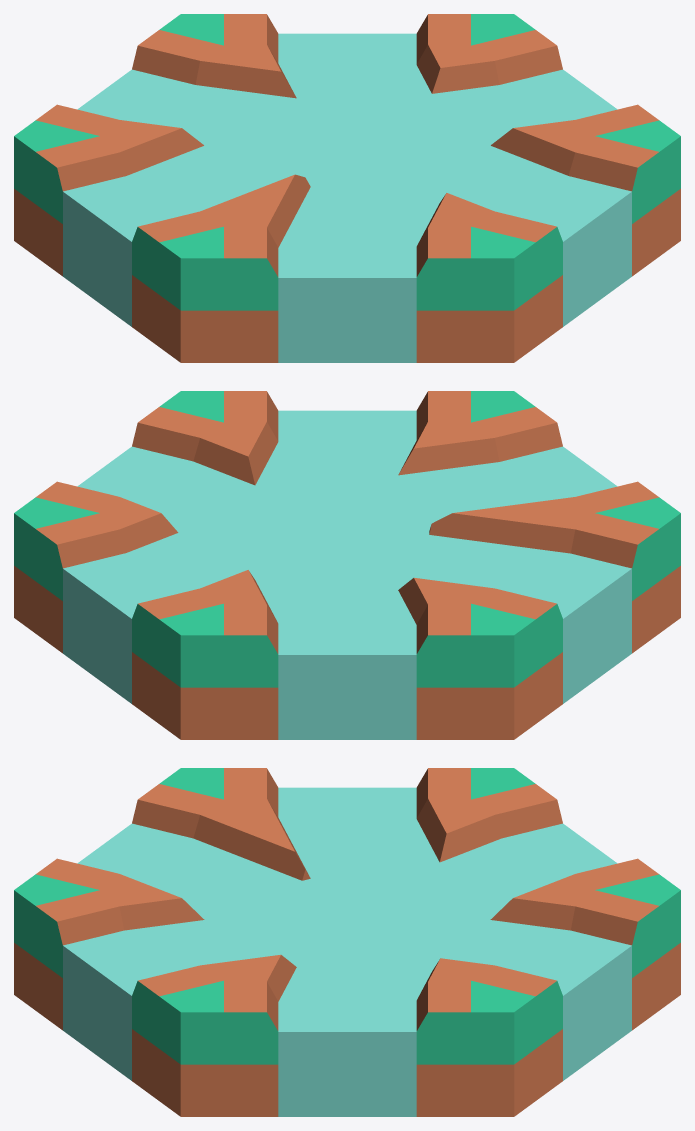
File: river_crossing.dae
The picture shows the model from 3 angles, top to bottom: view 1: azimuth 30°, elevation 25°; view 2: azimuth 150°, elevation 25°; view 3: azimuth 270°, elevation 25°; orthographic projection.
Visible parts, largest first — view 1: river_crossing; view 2: river_crossing; view 3: river_crossing.
Part boxes in pixels (x1,y1,x2,y2): river_crossing: (14, 14, 680, 362); river_crossing: (14, 391, 680, 739); river_crossing: (14, 768, 680, 1116).
Size of the model in its own units: 1 by 0.2 by 1.15.
